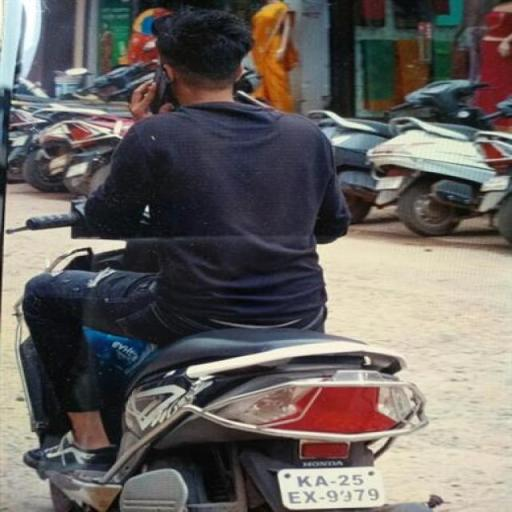numberplate: (281, 464, 387, 510)
using mobile: (143, 59, 182, 118)
